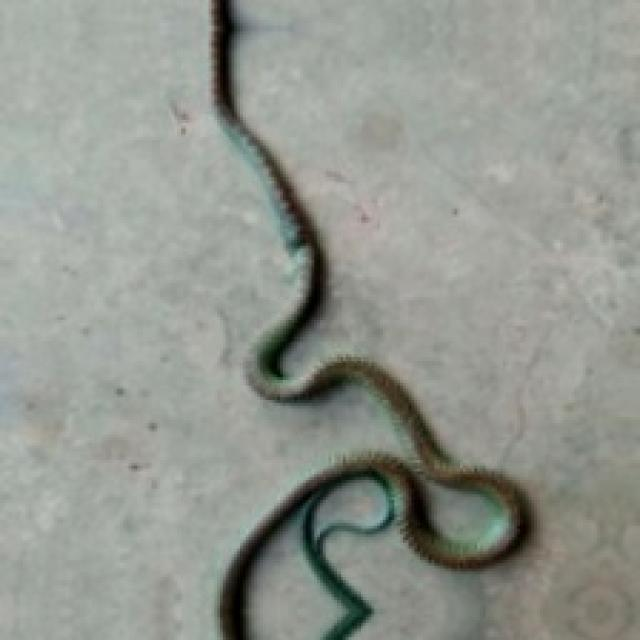paradise tree snake: (211, 0, 529, 637)
